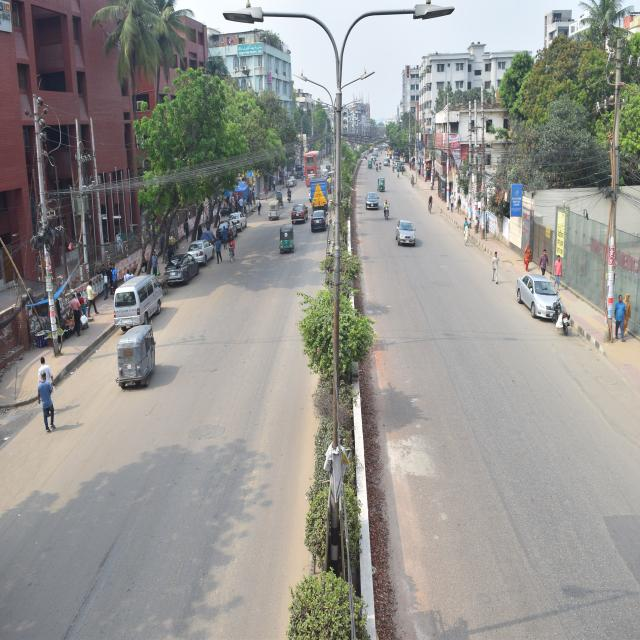bus: (301, 144, 325, 189)
car: (514, 271, 569, 327), (163, 245, 198, 292), (390, 214, 420, 249), (306, 203, 332, 235), (189, 237, 216, 266), (225, 207, 252, 235), (213, 218, 240, 246), (291, 199, 314, 228), (364, 184, 383, 212)
microbus: (111, 260, 168, 340)
motorbike: (547, 296, 578, 337), (382, 193, 396, 224)
pickup-van: (307, 174, 333, 218)
